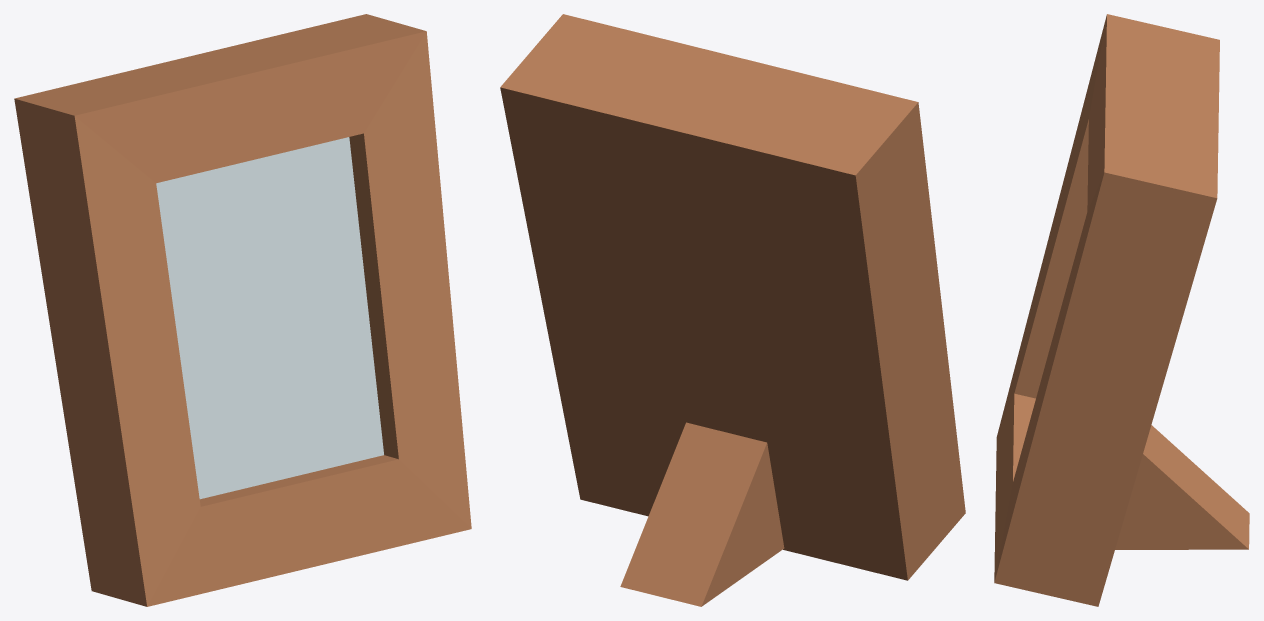
Rendered from pictureframe.fbx.
The picture shows the model from 3 angles, left to right: view 1: azimuth 30°, elevation 25°; view 2: azimuth 150°, elevation 25°; view 3: azimuth 270°, elevation 25°; orthographic projection. The views are drawn at different scales.
Parts seen in each view (by area): view 1: pictureframe.001; view 2: pictureframe.001; view 3: pictureframe.001.
Part boxes in pixels (box(x1,y1,x2,y2)): pictureframe.001: box(14, 14, 471, 606); pictureframe.001: box(500, 14, 965, 606); pictureframe.001: box(994, 14, 1249, 606).
Size of the model in its own units: 49.57 by 64.17 by 33.69.
